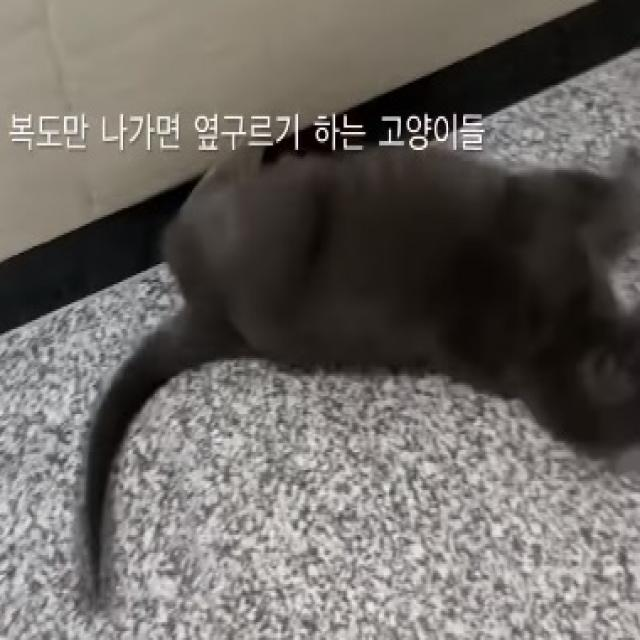cat: (62, 131, 640, 616)
